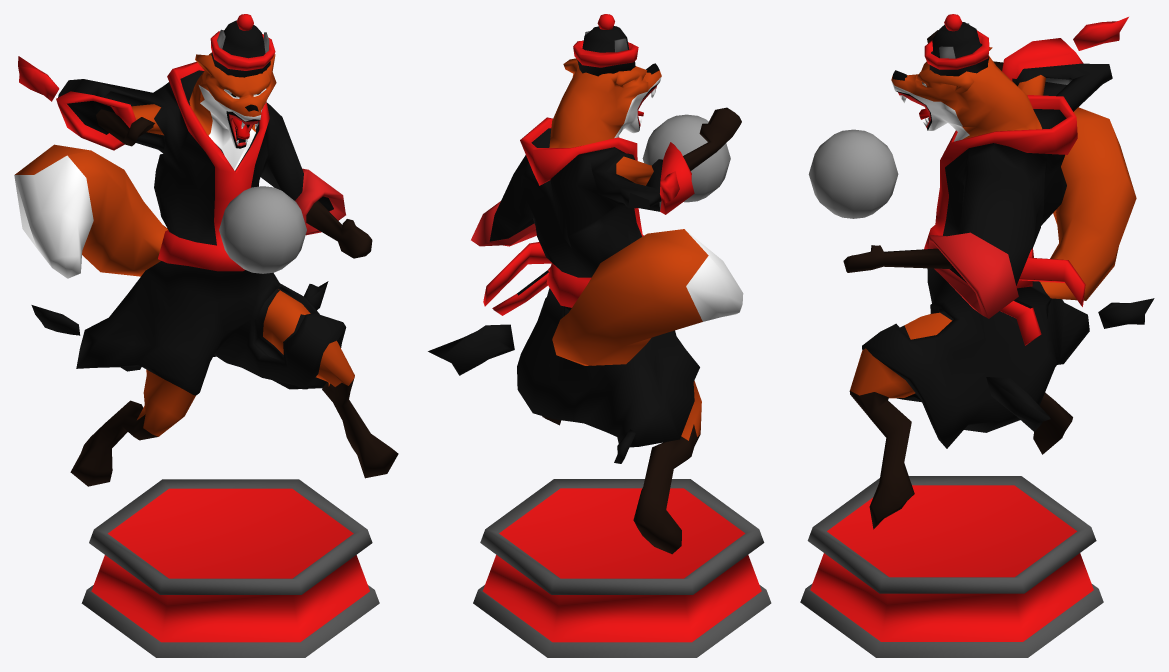
Rendered from magier.FBX.
The picture shows the model from 3 angles, left to right: view 1: azimuth 30°, elevation 25°; view 2: azimuth 150°, elevation 25°; view 3: azimuth 270°, elevation 25°; orthographic projection.
Visible parts, largest first — view 1: Box002; view 2: Box002; view 3: Box002.
Boxes of the visible parts, bbox=[...] form: Box002: bbox=[14, 14, 398, 657]; Box002: bbox=[428, 14, 771, 657]; Box002: bbox=[800, 14, 1154, 657].
Size of the model in its own units: 110 by 205 by 111.
